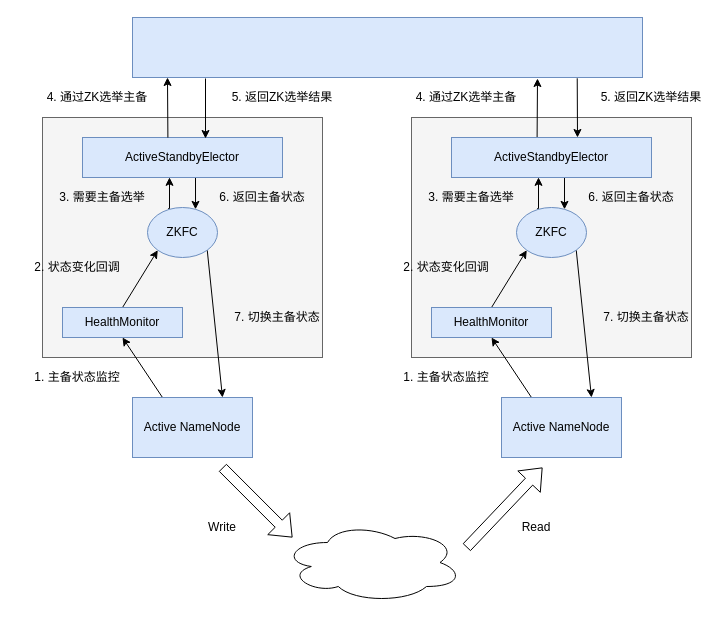
Some shapes in this 728 by 620 pixel diagram are drawn without their labels. Each missing label, with the centre of its shape:
"JournalNode集群" belongs at (372,562).
"Zookeeper集群" belongs at (387,47).
